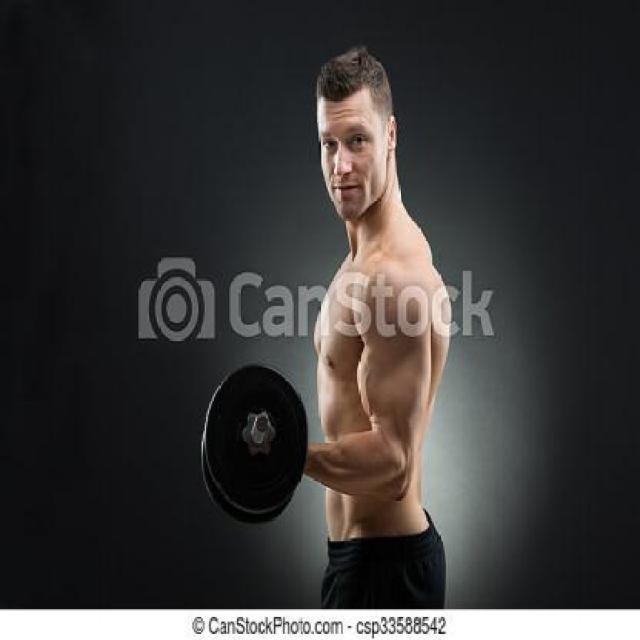barbell: (197, 354, 316, 523)
